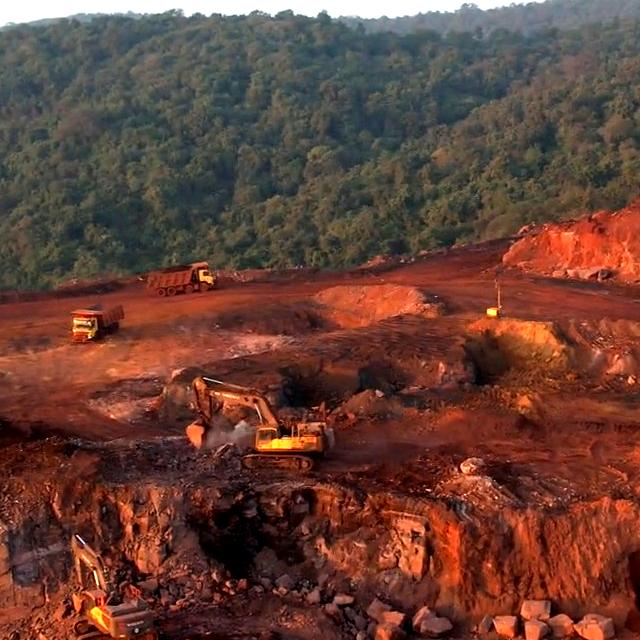Dumper truck: (148, 266, 215, 294), (70, 306, 119, 340)
Excavator: (70, 568, 161, 640), (242, 411, 323, 470)
